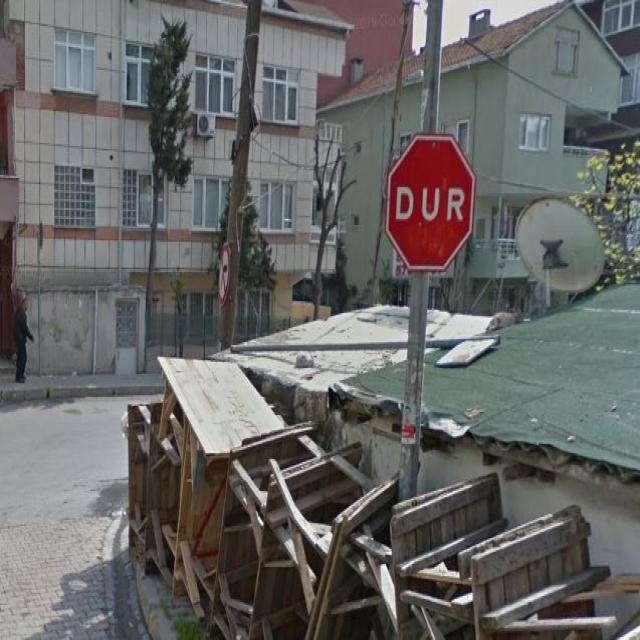dur: (387, 134, 474, 270)
